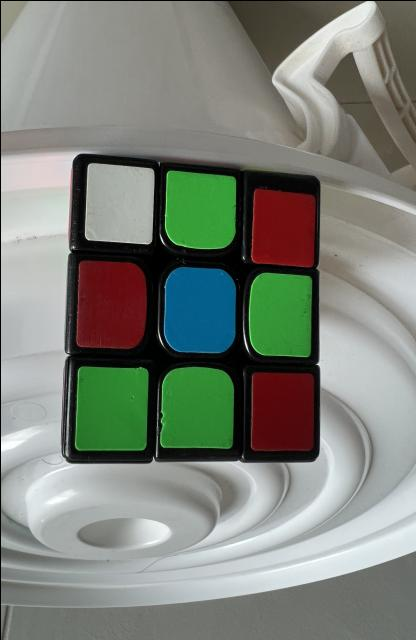Blue: (162, 266, 235, 352)
Green: (74, 365, 147, 450), (159, 365, 233, 448), (164, 169, 235, 249), (248, 271, 311, 356)
Red: (76, 260, 146, 348), (250, 188, 315, 266), (250, 371, 313, 450)
White: (84, 162, 154, 244)
